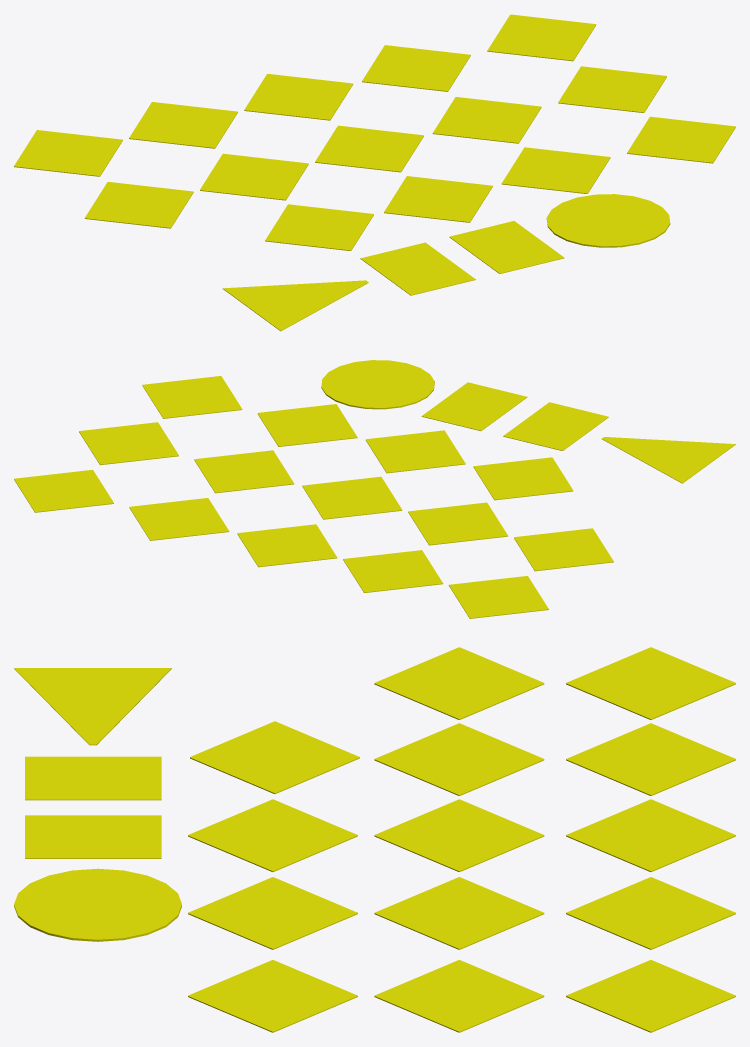
File: Caution Signs 2.fbx
3 views of the same model, one above another, from view 1: azimuth 30°, elevation 25°; view 2: azimuth 150°, elevation 25°; view 3: azimuth 270°, elevation 25° (orthographic). The views are drawn at different scales.
Parts seen in each view (by area): view 1: pCylinder2, pCube39, pCube22, pCube34, pCube1, pCube26, pCube24, pCube20, pCube28, pCube27, pCube30, pCube29 (+6 smaller); view 2: pCylinder2, pCube39, pCube1, pCube34, pCube29, pCube21, pCube33, pCube26, pCube24, pCube28, pCube30, pCube22 (+6 smaller); view 3: pCylinder2, pCube39, pCube26, pCube28, pCube29, pCube22, pCube21, pCube1, pCube33, pCube24, pCube20, pCube25 (+6 smaller).
Part boxes in pixels (x1,y1,x2,y2): pCylinder2: [546, 194, 670, 247]; pCube39: [222, 280, 368, 331]; pCube22: [362, 45, 470, 91]; pCube34: [384, 176, 492, 222]; pCube1: [14, 130, 122, 176]; pCube26: [84, 182, 193, 228]; pCube24: [432, 97, 541, 143]; pCube20: [129, 102, 237, 148]; pCube28: [558, 66, 666, 112]; pCube27: [200, 153, 308, 200]; pCube30: [265, 204, 373, 250]; pCube29: [501, 147, 610, 193]; pCylinder2: [321, 360, 434, 409]; pCube39: [602, 437, 735, 483]; pCube1: [448, 576, 548, 618]; pCube34: [365, 430, 465, 473]; pCube29: [257, 404, 357, 446]; pCube21: [237, 524, 337, 567]; pCube33: [142, 376, 242, 418]; pCube26: [514, 528, 613, 571]; pCube24: [194, 450, 294, 493]; pCube28: [79, 422, 178, 465]; pCube30: [473, 457, 573, 500]; pCube22: [129, 498, 229, 540]; pCylinder2: [14, 868, 181, 941]; pCube39: [14, 668, 171, 745]; pCube26: [374, 647, 544, 719]; pCube28: [374, 960, 544, 1032]; pCube29: [188, 877, 357, 949]; pCube22: [566, 877, 735, 949]; pCube21: [566, 799, 735, 871]; pCube1: [566, 647, 735, 719]; pCube33: [188, 960, 357, 1032]; pCube24: [374, 877, 544, 949]; pCube20: [566, 723, 735, 795]; pCube25: [374, 799, 544, 871].
Size of the model in its own units: 40.16 by 0.1 by 31.87.
